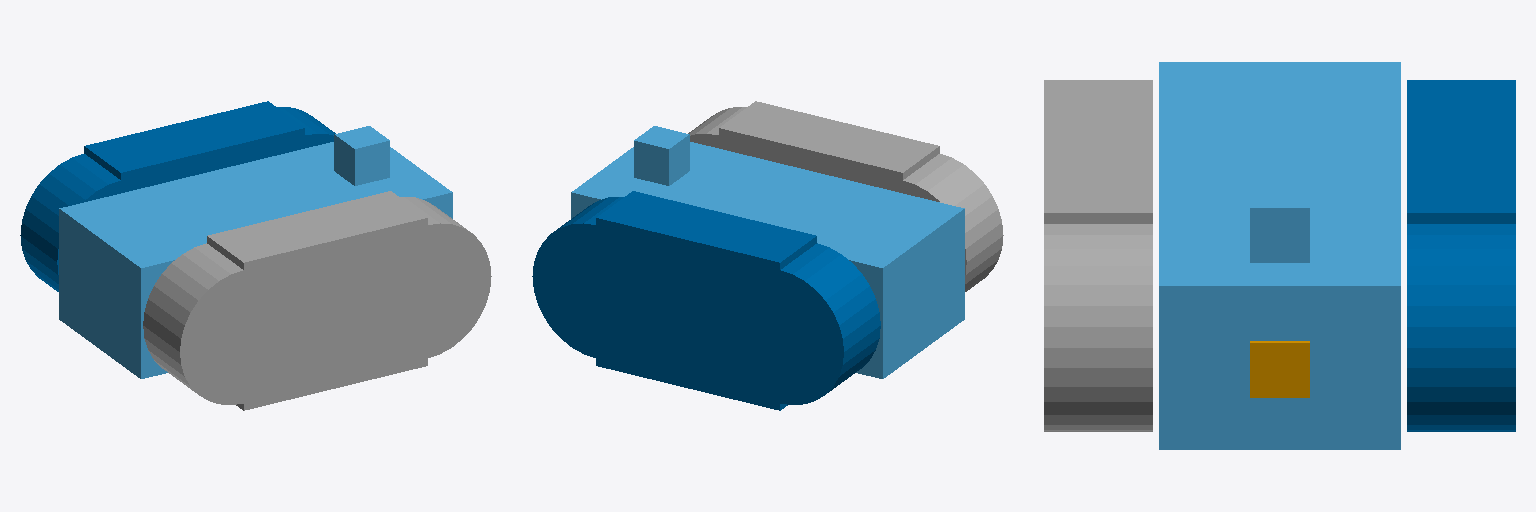
robot.urdf — skidbot:
<?xml version="1.0" ?>
<!-- =================================================================================== -->
<!-- |    This document was autogenerated by xacro from [local-path]/gcamp_ros2_ws/src/gcamp_ros2_basic/gcamp_gazebo/urdf/skidbot.urdf.xacro | -->
<!-- |    EDITING THIS FILE BY HAND IS NOT RECOMMENDED                                 | -->
<!-- =================================================================================== -->
<robot name="skidbot">
  <!--skid_steer_drive_controller-->
  <gazebo>
    <plugin filename="libgazebo_ros_diff_drive.so" name="skid_steer_drive_controller">
      <ros>
        <argument>--ros-args --remap /cmd_vel:=cmd_vel</argument>
        <argument>--ros-args --remap /odom:=odom</argument>
      </ros>
      <update_rate>100.0</update_rate>
      <num_wheel_pairs>2</num_wheel_pairs>
      <odometry_frame>odom</odometry_frame>
      <left_joint>front_left_wheel_joint</left_joint>
      <left_joint>back_left_wheel_joint</left_joint>
      <wheel_separation>0.4</wheel_separation>
      <wheel_diameter>0.18</wheel_diameter>
      <right_joint>front_right_wheel_joint</right_joint>
      <right_joint>back_right_wheel_joint</right_joint>
      <wheel_separation>0.4</wheel_separation>
      <wheel_diameter>0.18</wheel_diameter>
      <robot_base_frame>robot_footprint</robot_base_frame>
      <max_wheel_torque>15</max_wheel_torque>
      <publish_odom>true</publish_odom>
      <publish_odom_tf>true</publish_odom_tf>
      <publish_wheel_tf>true</publish_wheel_tf>
      <odometry_source>world</odometry_source>
    </plugin>
  </gazebo>
  <!-- camera -->
  <gazebo reference="camera">
    <sensor name="camera_sensor" type="camera">
      <update_rate>30.0</update_rate>
      <always_on>1</always_on>
      <camera name="camera">
        <horizontal_fov>1.3962634</horizontal_fov>
        <image>
          <width>800</width>
          <height>800</height>
          <format>R8G8B8</format>
        </image>
        <clip>
          <near>0.02</near>
          <far>300</far>
        </clip>
        <distortion>
          <k1>0.0</k1>
          <k2>0.0</k2>
          <k3>0.0</k3>
          <p1>0.0</p1>
          <p2>0.0</p2>
          <center>0.5 0.5</center>
        </distortion>
      </camera>
      <plugin filename="libgazebo_ros_camera.so" name="camera_controller">
        <ros>
          <argument>--ros-args --remap camera/image_raw:=/skidbot/camera/image</argument>
          <argument>--ros-args --remap camera/camera_info:=/skidbot/camera/image/camera_info</argument>
        </ros>
        <camera_name>camera_sensor</camera_name>
        <frame_name>robot_footprint</frame_name>
        <hack_baseline>0.07</hack_baseline>
      </plugin>
    </sensor>
  </gazebo>
  <!-- hokuyo -->
  <gazebo reference="hokuyo">
    <sensor name="head_hokuyo_sensor" type="ray">
      <pose>0 0 0 0 0 0</pose>
      <visualize>true</visualize>
      <update_rate>40</update_rate>
      <ray>
        <scan>
          <horizontal>
            <samples>720</samples>
            <resolution>1</resolution>
            <min_angle>-1.570796</min_angle>
            <max_angle>1.570796</max_angle>
          </horizontal>
        </scan>
        <range>
          <min>0.10</min>
          <max>30.0</max>
          <resolution>0.01</resolution>
        </range>
        <noise>
          <type>gaussian</type>
          <!-- Noise parameters based on published spec for Hokuyo laser
                achieving "+-30mm" accuracy at range < 10m.  A mean of 0.0m and
                stddev of 0.01m will put 99.7% of samples within 0.03m of the true
                reading. -->
          <mean>0.0</mean>
          <stddev>0.01</stddev>
        </noise>
      </ray>
      <update_rate>30</update_rate>
      <plugin filename="libgazebo_ros_ray_sensor.so" name="gazebo_ros_head_hokuyo_controller">
        <ros>
          <argument>--ros-args --remap ~/out:=scan</argument>
        </ros>
        <output_type>sensor_msgs/LaserScan</output_type>
      </plugin>
    </sensor>
  </gazebo>
  <link name="robot_footprint"/>
  <joint name="robot_footprint_joint" type="fixed">
    <origin rpy="0 0 0" xyz="0 0 0"/>
    <parent link="robot_footprint"/>
    <child link="chassis"/>
  </joint>
  <link name="chassis">
    <pose>0 0 0.1 0 0 0</pose>
    <inertial>
      <mass value="15.0"/>
      <origin rpy=" 0 0 0" xyz="0.0 0 0"/>
      <inertia ixx="0.1" ixy="0" ixz="0" iyy="0.1" iyz="0" izz="0.1"/>
    </inertial>
    <collision name="collision">
      <origin rpy=" 0 0 0" xyz="0 0 0"/>
      <geometry>
        <box size=".44 .2 .15"/>
      </geometry>
    </collision>
    <visual name="chassis_visual">
      <origin rpy=" 0 0 0" xyz="0 0 0"/>
      <geometry>
        <box size=".44 .2 .15"/>
      </geometry>
    </visual>
  </link>
  <link name="front_left_wheel">
    <inertial>
      <mass value="8.0"/>
      <origin rpy=" 0 1.5707 1.5707" xyz="0.0 0 0"/>
      <inertia ixx="0.1" ixy="0" ixz="0" iyy="0.1" iyz="0" izz="0.1"/>
    </inertial>
    <collision>
      <origin rpy=" 0 1.5707 1.5707" xyz="0.0 0 0"/>
      <geometry>
        <cylinder length="0.09" radius="0.09"/>
      </geometry>
    </collision>
  </link>
  <link name="back_left_wheel">
    <inertial>
      <mass value="8.0"/>
      <origin rpy=" 0 1.5707 1.5707" xyz="0.0 0 0"/>
      <inertia ixx="0.1" ixy="0" ixz="0" iyy="0.1" iyz="0" izz="0.1"/>
    </inertial>
    <collision>
      <origin rpy=" 0 1.5707 1.5707" xyz="0.0 0 0"/>
      <geometry>
        <cylinder length="0.09" radius="0.09"/>
      </geometry>
    </collision>
  </link>
  <link name="left_track">
    <visual name="left_track_visual">
      <origin rpy="1.5708 0 1.5708" xyz="0 0 0"/>
      <geometry>
        <box size="0.09 0.2 0.26"/>
      </geometry>
    </visual>
    <visual name="left_track_visual_1">
      <origin rpy="1.5708 -0 0" xyz="0.13 0 0"/>
      <geometry>
        <cylinder length="0.09" radius="0.09"/>
      </geometry>
    </visual>
    <visual name="left_track_visual_2">
      <origin rpy="1.5708 -0 0" xyz="-0.13 0 0"/>
      <geometry>
        <cylinder length="0.09" radius="0.09"/>
      </geometry>
    </visual>
  </link>
  <link name="front_right_wheel">
    <inertial>
      <mass value="8.0"/>
      <origin rpy=" 0 1.5707 1.5707" xyz="0.0 0 0"/>
      <inertia ixx="0.1" ixy="0" ixz="0" iyy="0.1" iyz="0" izz="0.1"/>
    </inertial>
    <collision>
      <origin rpy=" 0 1.5707 1.5707" xyz="0.0 0 0"/>
      <geometry>
        <cylinder length="0.09" radius="0.09"/>
      </geometry>
    </collision>
  </link>
  <link name="back_right_wheel">
    <inertial>
      <mass value="8.0"/>
      <origin rpy=" 0 1.5707 1.5707" xyz="0.0 0 0"/>
      <inertia ixx="0.1" ixy="0" ixz="0" iyy="0.1" iyz="0" izz="0.1"/>
    </inertial>
    <collision>
      <origin rpy=" 0 1.5707 1.5707" xyz="0.0 0 0"/>
      <geometry>
        <cylinder length="0.09" radius="0.09"/>
      </geometry>
    </collision>
  </link>
  <link name="right_track">
    <visual name="right_track_visual">
      <origin rpy="1.5708 0 1.5708" xyz="0 0 0"/>
      <geometry>
        <box size="0.09 0.2 0.26"/>
      </geometry>
    </visual>
    <visual name="right_track_visual_1">
      <origin rpy="1.5708 -0 0" xyz="0.13 0 0"/>
      <geometry>
        <cylinder length="0.09" radius="0.09"/>
      </geometry>
    </visual>
    <visual name="right_track_visual_2">
      <origin rpy="1.5708 -0 0" xyz="-0.13 0 0"/>
      <geometry>
        <cylinder length="0.09" radius="0.09"/>
      </geometry>
    </visual>
  </link>
  <link name="camera">
    <inertial>
      <mass value="0.1"/>
      <origin rpy=" 0 0 0" xyz="0.05 0.05 0.05"/>
      <inertia ixx="1e-6" ixy="0" ixz="0" iyy="1e-6" iyz="0" izz="1e-6"/>
    </inertial>
    <visual name="camera_visual">
      <origin rpy="0 0 0" xyz="0 0 0"/>
      <geometry>
        <box size="0.05 0.05 0.05"/>
      </geometry>
    </visual>
    <collision name="camera_colision">
      <origin rpy="0 0 0" xyz="0 0 0"/>
      <geometry>
        <box size="0.05 0.05 0.05"/>
      </geometry>
    </collision>
  </link>
  <link name="hokuyo">
    <inertial>
      <mass value="1e-5"/>
      <origin rpy=" 0 0 0" xyz="0 0 0"/>
      <inertia ixx="1e-6" ixy="0" ixz="0" iyy="1e-6" iyz="0" izz="1e-6"/>
    </inertial>
    <visual name="hokuyo_visual">
      <origin rpy="0 0 0" xyz="0 0 0"/>
      <geometry>
        <box size="0.05 0.05 0.05"/>
      </geometry>
    </visual>
    <collision name="hokuyo_colision">
      <origin rpy="0 0 0" xyz="0 0 0"/>
      <geometry>
        <box size="0.1 0.1 0.1"/>
      </geometry>
    </collision>
  </link>
  <joint name="front_left_wheel_joint" type="continuous">
    <origin rpy="0 0 0" xyz="0.13 0.15 0"/>
    <child link="front_left_wheel"/>
    <parent link="chassis"/>
    <axis rpy="0 0 0" xyz="0 1 0"/>
    <limit effort="10000" velocity="1000"/>
    <dynamics damping="1.0" friction="1.0"/>
  </joint>
  <joint name="front_right_wheel_joint" type="continuous">
    <origin rpy="0 0 0" xyz="0.13 -0.15 0"/>
    <child link="front_right_wheel"/>
    <parent link="chassis"/>
    <axis rpy="0 0 0" xyz="0 1 0"/>
    <limit effort="10000" velocity="1000"/>
    <dynamics damping="1.0" friction="1.0"/>
  </joint>
  <joint name="back_left_wheel_joint" type="continuous">
    <origin rpy="0 0 0" xyz="-0.13 0.15 0"/>
    <child link="back_left_wheel"/>
    <parent link="chassis"/>
    <axis rpy="0 0 0" xyz="0 1 0"/>
    <limit effort="10000" velocity="1000"/>
    <dynamics damping="1.0" friction="1.0"/>
  </joint>
  <joint name="back_right_wheel_joint" type="continuous">
    <origin rpy="0 0 0" xyz="-0.13 -0.15 0"/>
    <child link="back_right_wheel"/>
    <parent link="chassis"/>
    <axis rpy="0 0 0" xyz="0 1 0"/>
    <limit effort="10000" velocity="1000"/>
    <dynamics damping="1.0" friction="1.0"/>
  </joint>
  <joint name="right_track_j" type="fixed">
    <origin rpy="0 0 0" xyz="0 -0.15 0"/>
    <child link="right_track"/>
    <parent link="chassis"/>
  </joint>
  <joint name="left_track_j" type="fixed">
    <origin rpy="0 0 0" xyz="0 0.15 0"/>
    <child link="left_track"/>
    <parent link="chassis"/>
  </joint>
  <joint name="camera_joint" type="fixed">
    <origin rpy="0 0 0" xyz="0.2 0 0"/>
    <child link="camera"/>
    <parent link="chassis"/>
    <axis rpy="0 0 0" xyz="0 1 0"/>
  </joint>
  <joint name="hokuyo_joint" type="fixed">
    <origin rpy="0 0 0" xyz="0.15 0 0.1"/>
    <child link="hokuyo"/>
    <parent link="chassis"/>
    <axis rpy="0 0 0" xyz="0 1 0"/>
  </joint>
  <gazebo reference="chassis">
    <material>Gazebo/Green</material>
  </gazebo>
  <gazebo reference="left_track">
    <material>Gazebo/Black</material>
  </gazebo>
  <gazebo reference="right_track">
    <material>Gazebo/Black</material>
  </gazebo>
  <gazebo reference="camera">
    <material>Gazebo/Gray</material>
  </gazebo>
  <gazebo reference="hokuyo">
    <material>Gazebo/Black</material>
  </gazebo>
</robot>

--- Facts derived from the render (not from the file) ---
3 views of the same robot in one strip: view 1: azimuth 30°, elevation 25°; view 2: azimuth 150°, elevation 25°; view 3: azimuth 270°, elevation 25° (orthographic).
Model skidbot with 10 links and 9 joints (4 continuous, 5 fixed), rooted at robot_footprint, posed all joints at 0.
Visible links, largest first — view 1: right_track, chassis, left_track, hokuyo; view 2: left_track, chassis, right_track, hokuyo; view 3: chassis, left_track, right_track, hokuyo, camera.
Link boxes in pixels (bbox=[...]): right_track: bbox=[143, 191, 491, 410]; chassis: bbox=[59, 142, 452, 378]; left_track: bbox=[20, 101, 335, 291]; hokuyo: bbox=[334, 126, 389, 185]; left_track: bbox=[532, 191, 880, 410]; chassis: bbox=[571, 142, 964, 378]; right_track: bbox=[688, 101, 1003, 291]; hokuyo: bbox=[634, 126, 689, 185]; chassis: bbox=[1159, 62, 1400, 449]; left_track: bbox=[1407, 80, 1515, 431]; right_track: bbox=[1044, 80, 1152, 431]; hokuyo: bbox=[1250, 183, 1309, 262]; camera: bbox=[1250, 341, 1309, 397].
Size in the robot's own frame: 0.445 by 0.39 by 0.225 metres.
Geometry: primitives only (box / cylinder / sphere), no mesh files.
